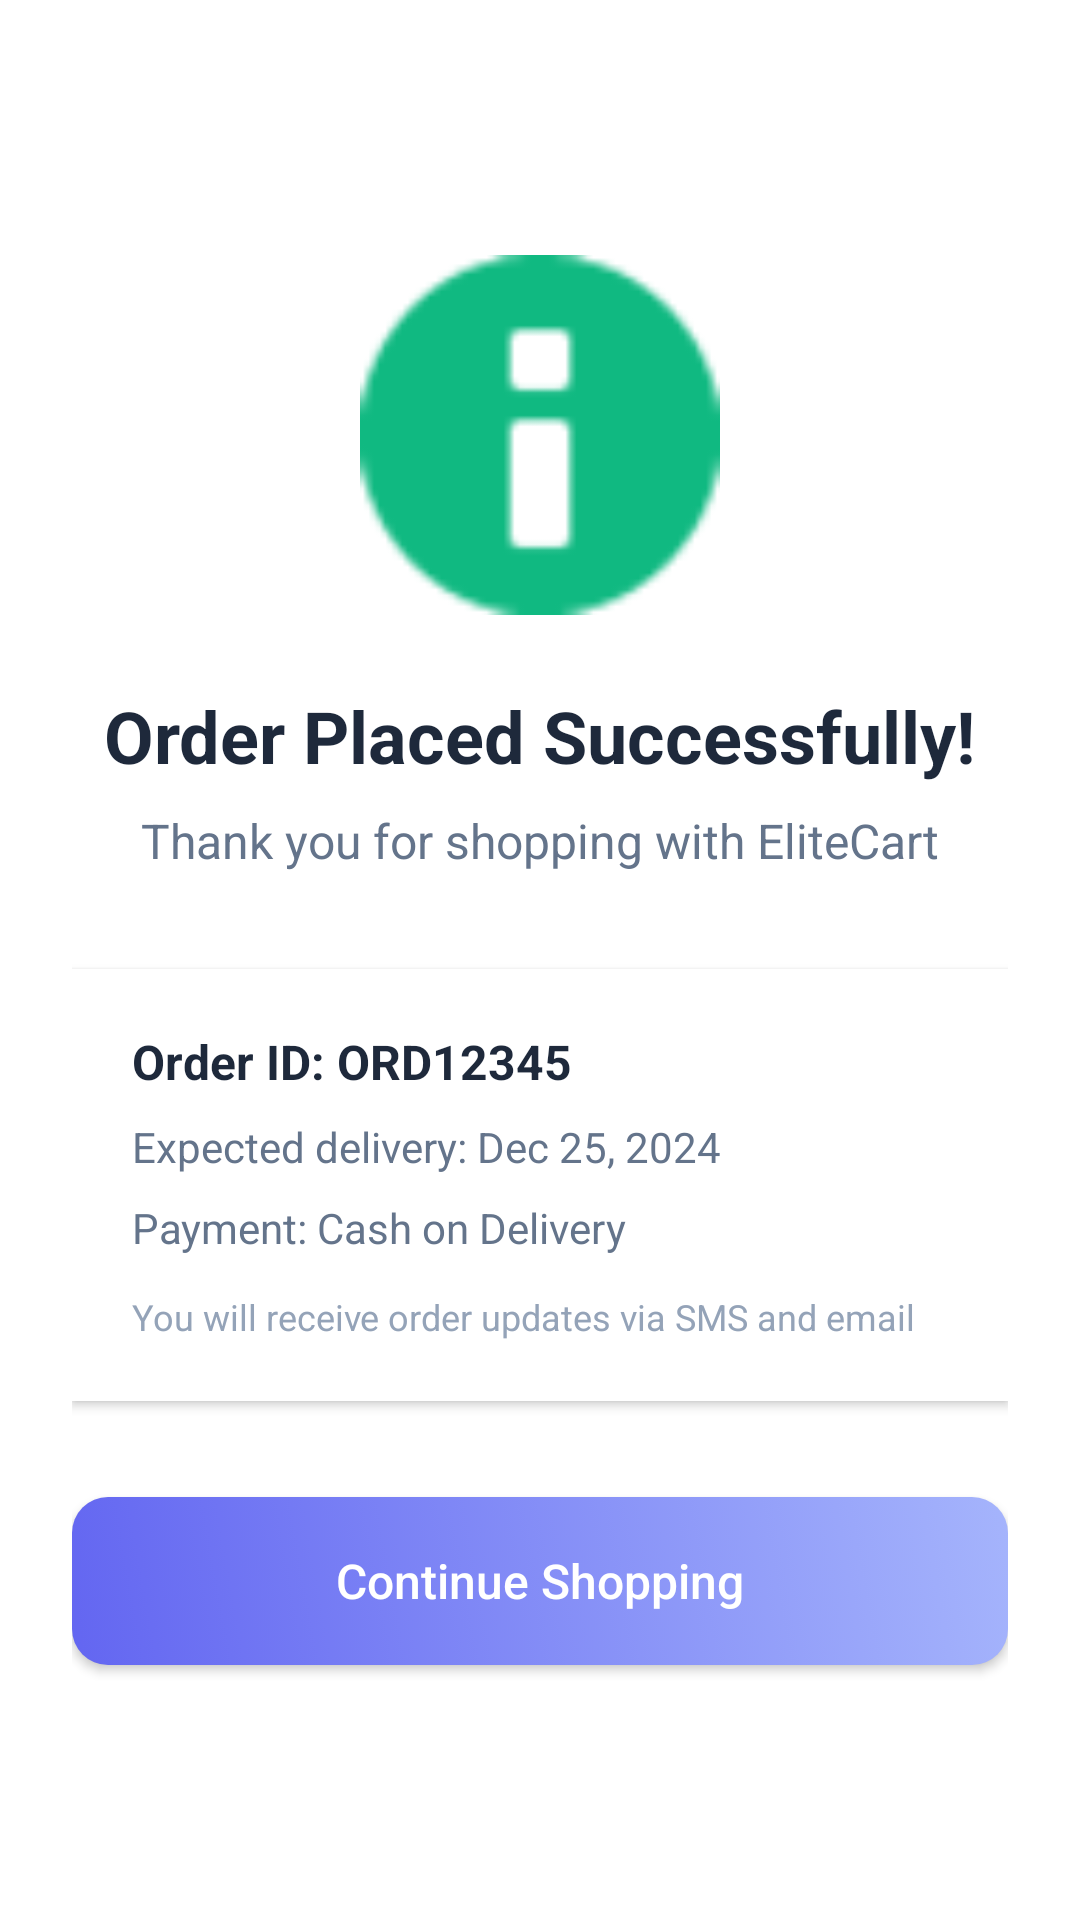

Named icons in this screenshot (1080 × 1920) and their centers, (x,y):
info: (540,435)
